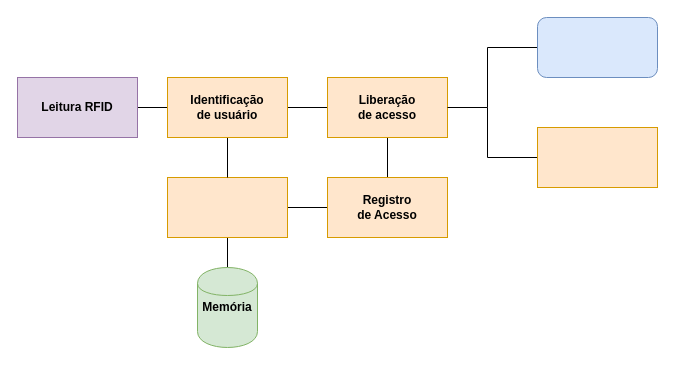
Image size: 675x365. Some labels were removed from this diagram. The centre of each missing label's shape, as x and y in pixels:
"Acionamento de porta" goes at (597,157).
"Cadastro de usuário" goes at (227,207).
"Notificação de acesso" goes at (597,47).
